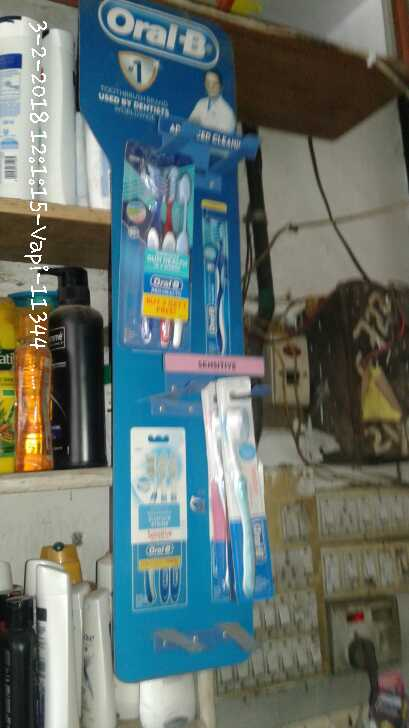oralb: (195, 375, 274, 600), (110, 153, 187, 350)
